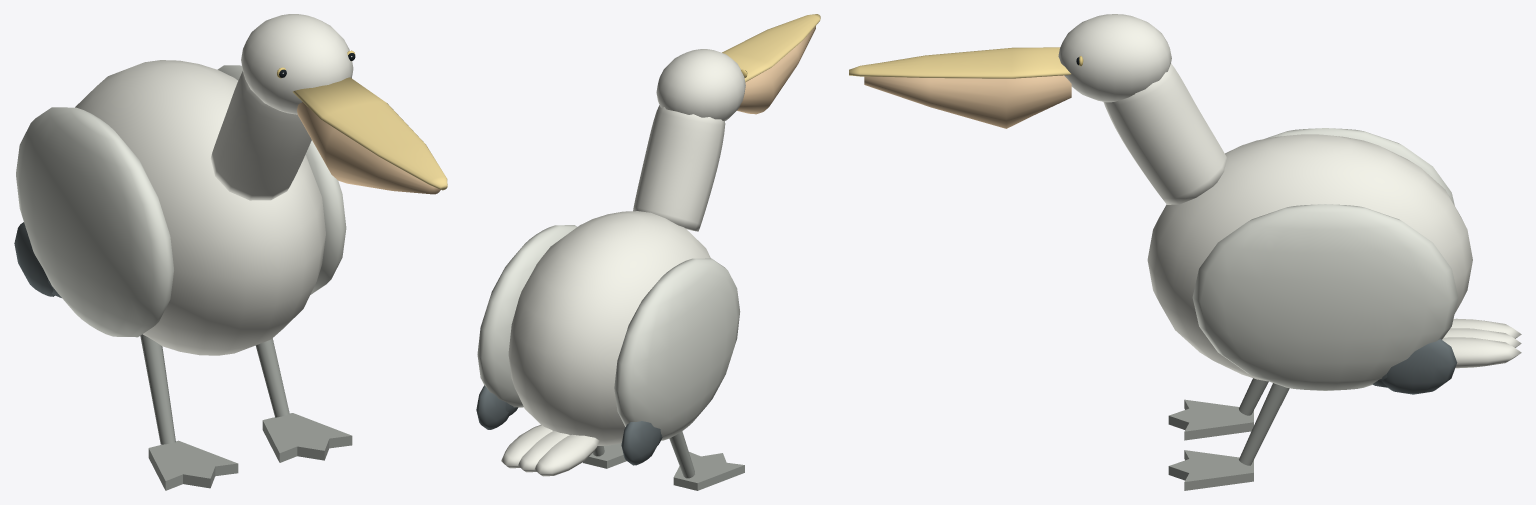
Rendered from bird_pelican.glb.
The picture shows the model from 3 angles, left to right: view 1: azimuth 30°, elevation 25°; view 2: azimuth 150°, elevation 25°; view 3: azimuth 270°, elevation 25°; orthographic projection. The views are drawn at different scales.
Parts seen in each view (by area): view 1: Pelican_Broad_White_Body, Pelican_Folded_Wing_-1, Pelican_Connected_Curved_Neck, Pelican_White_Head, Pelican_Broad_Long_Upper_Bill, Pelican_Connected_Hanging_Throat_Pouch, Pelican_Folded_Wing_1, Pelican_Broad_Webbed_Foot_-1, Pelican_Broad_Webbed_Foot_1, Pelican_Short_Leg_-1, Pelican_Short_Leg_1, Pelican_Dark_Wing_Tip_-1_2; view 2: Pelican_Broad_White_Body, Pelican_Folded_Wing_-1, Pelican_Connected_Curved_Neck, Pelican_Folded_Wing_1, Pelican_White_Head, Pelican_Broad_Long_Upper_Bill, Pelican_Connected_Hanging_Throat_Pouch, Pelican_White_Tail_0, Pelican_Broad_Webbed_Foot_-1, Pelican_Dark_Wing_Tip_-1_2, Pelican_Dark_Wing_Tip_1_2, Pelican_White_Tail_2 (+3 smaller); view 3: Pelican_Folded_Wing_1, Pelican_Broad_White_Body, Pelican_Connected_Curved_Neck, Pelican_White_Head, Pelican_Connected_Hanging_Throat_Pouch, Pelican_Broad_Long_Upper_Bill, Pelican_Dark_Wing_Tip_1_2, Pelican_Broad_Webbed_Foot_1, Pelican_Broad_Webbed_Foot_-1, Pelican_White_Tail_2, Pelican_Folded_Wing_-1, Pelican_Short_Leg_1 (+1 smaller).
Part boxes in pixels (<box>): Pelican_Broad_White_Body: <box>75,60,325,355</box>; Pelican_Folded_Wing_-1: <box>16,107,173,337</box>; Pelican_Connected_Curved_Neck: <box>210,71,311,200</box>; Pelican_White_Head: <box>241,14,353,114</box>; Pelican_Broad_Long_Upper_Bill: <box>292,77,447,190</box>; Pelican_Connected_Hanging_Throat_Pouch: <box>297,102,440,194</box>; Pelican_Folded_Wing_1: <box>217,65,346,294</box>; Pelican_Broad_Webbed_Foot_-1: <box>148,440,238,490</box>; Pelican_Broad_Webbed_Foot_1: <box>262,413,352,462</box>; Pelican_Short_Leg_-1: <box>140,334,175,444</box>; Pelican_Short_Leg_1: <box>255,338,289,417</box>; Pelican_Dark_Wing_Tip_-1_2: <box>14,222,54,296</box>; Pelican_Broad_White_Body: <box>508,211,710,445</box>; Pelican_Folded_Wing_-1: <box>614,258,740,440</box>; Pelican_Connected_Curved_Neck: <box>633,105,725,231</box>; Pelican_Folded_Wing_1: <box>477,225,576,407</box>; Pelican_White_Head: <box>656,49,745,121</box>; Pelican_Broad_Long_Upper_Bill: <box>722,14,820,82</box>; Pelican_Connected_Hanging_Throat_Pouch: <box>737,26,815,114</box>; Pelican_White_Tail_0: <box>534,434,599,476</box>; Pelican_Broad_Webbed_Foot_-1: <box>673,452,744,490</box>; Pelican_Dark_Wing_Tip_-1_2: <box>621,421,660,465</box>; Pelican_Dark_Wing_Tip_1_2: <box>476,385,508,429</box>; Pelican_White_Tail_2: <box>501,424,552,468</box>; Pelican_Folded_Wing_1: <box>1192,204,1458,390</box>; Pelican_Broad_White_Body: <box>1147,134,1472,381</box>; Pelican_Connected_Curved_Neck: <box>1103,63,1227,204</box>; Pelican_White_Head: <box>1058,14,1171,102</box>; Pelican_Connected_Hanging_Throat_Pouch: <box>864,75,1071,128</box>; Pelican_Broad_Long_Upper_Bill: <box>849,47,1070,78</box>; Pelican_Dark_Wing_Tip_1_2: <box>1382,339,1457,394</box>; Pelican_Broad_Webbed_Foot_1: <box>1168,450,1253,490</box>; Pelican_Broad_Webbed_Foot_-1: <box>1168,399,1253,440</box>; Pelican_White_Tail_2: <box>1442,337,1521,368</box>; Pelican_Folded_Wing_-1: <box>1265,128,1454,205</box>; Pelican_Short_Leg_1: <box>1239,383,1289,465</box>.
Size of the model in its own units: 0.4462 by 0.876 by 1.24.
